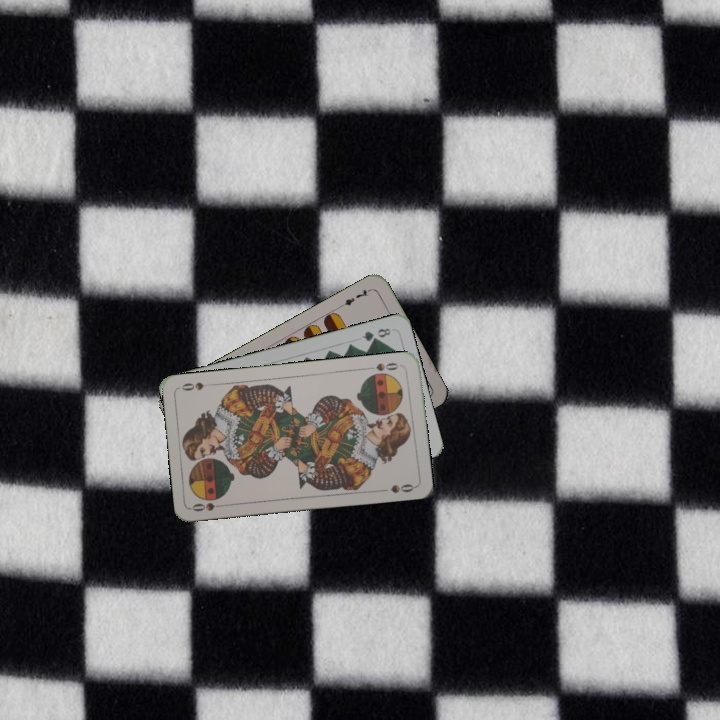E7: (336, 285, 373, 309)
G8: (358, 324, 394, 344)
SO: (364, 358, 405, 374), (189, 499, 229, 514)
